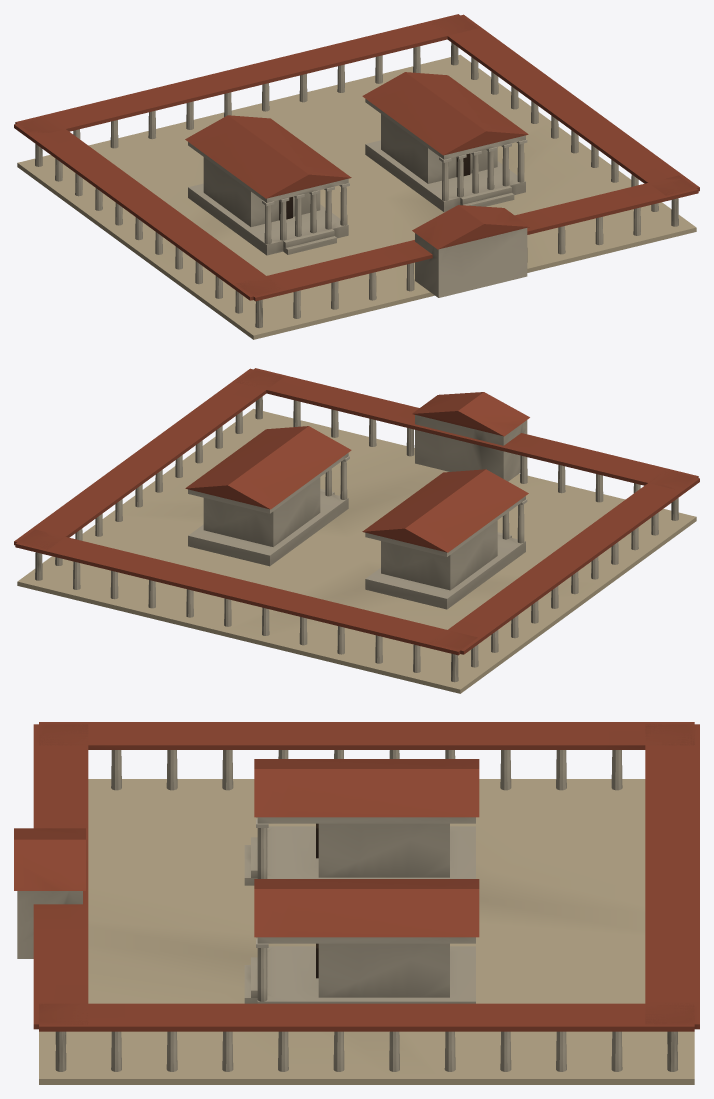
Rendered from porticus-metelli.glb.
3 views of the same model, one above another, from view 1: azimuth 30°, elevation 25°; view 2: azimuth 150°, elevation 25°; view 3: azimuth 270°, elevation 25° (orthographic). The views are drawn at different scales.
Visible parts, largest first — view 1: p2_roofs, p0_platform, p1_colonnade; view 2: p2_roofs, p0_platform, p1_colonnade; view 3: p0_platform, p2_roofs, p1_colonnade.
Part boxes in pixels (left/top/right/bottom): p2_roofs: left=14, top=14, right=699, bottom=301; p0_platform: left=17, top=54, right=696, bottom=339; p1_colonnade: left=35, top=42, right=678, bottom=328; p2_roofs: left=14, top=368, right=699, bottom=655; p0_platform: left=17, top=408, right=696, bottom=693; p1_colonnade: left=35, top=396, right=678, bottom=682; p0_platform: left=39, top=779, right=694, bottom=1084; p2_roofs: left=14, top=722, right=699, bottom=1031; p1_colonnade: left=17, top=750, right=677, bottom=1071.
Size of the model in its own units: 132 by 21.35 by 126.
